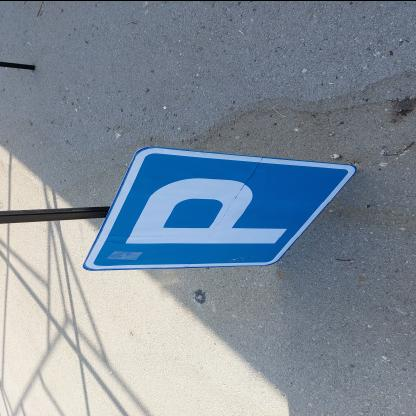Parking-Sign: (79, 145, 363, 271)
